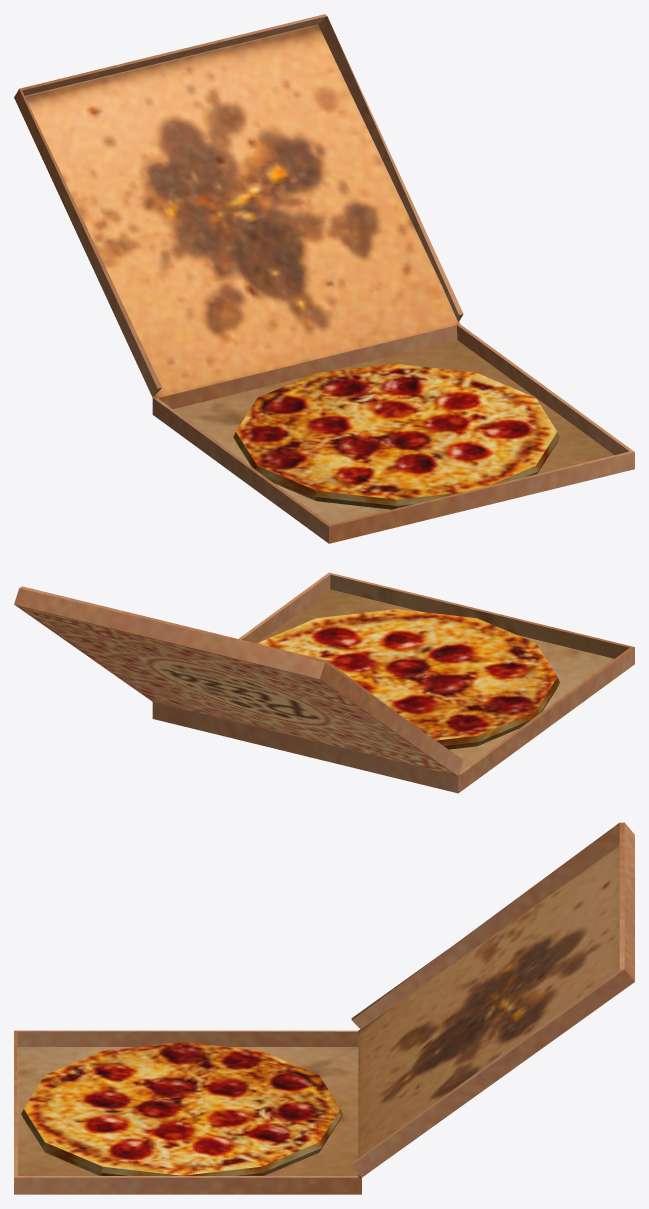
The model's file is pizza_full.glb.
3 views of the same model, one above another, from view 1: azimuth 30°, elevation 25°; view 2: azimuth 150°, elevation 25°; view 3: azimuth 270°, elevation 25° (orthographic).
Parts seen in each view (by area): view 1: pizza full; view 2: pizza full; view 3: pizza full.
Boxes of the visible parts, x1,y1,x2,y2 form: pizza full: [14, 14, 634, 543]; pizza full: [14, 572, 634, 793]; pizza full: [14, 822, 634, 1194].
Size of the model in its own units: 0.5276 by 0.3762 by 0.9413.
Materials: 2 (2 with a texture image).
